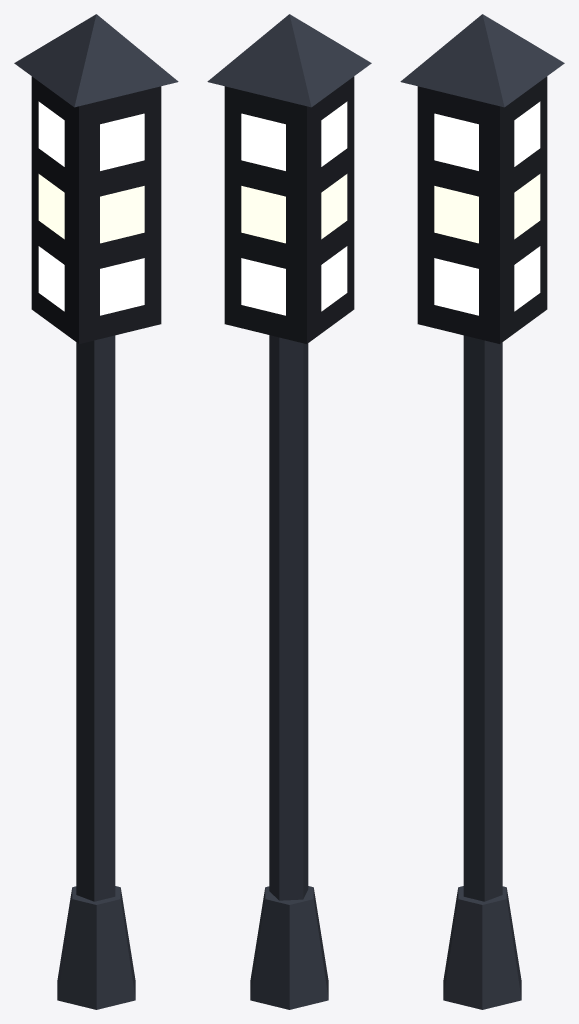
The model's file is prop_trafficlight.glb.
The picture shows the model from 3 angles, left to right: view 1: azimuth 30°, elevation 25°; view 2: azimuth 150°, elevation 25°; view 3: azimuth 330°, elevation 25°; orthographic projection.
Parts seen in each view (by area): view 1: prop_trafficlight; view 2: prop_trafficlight; view 3: prop_trafficlight.
Boxes of the visible parts, x1,y1,x2,y2 form: prop_trafficlight: (14,14,178,1009); prop_trafficlight: (207,14,371,1009); prop_trafficlight: (400,14,564,1009).
Size of the model in its own units: 0.56 by 5 by 0.56.
